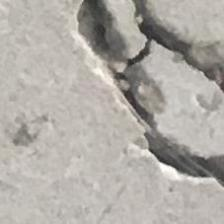Crack: (59, 0, 224, 204)
